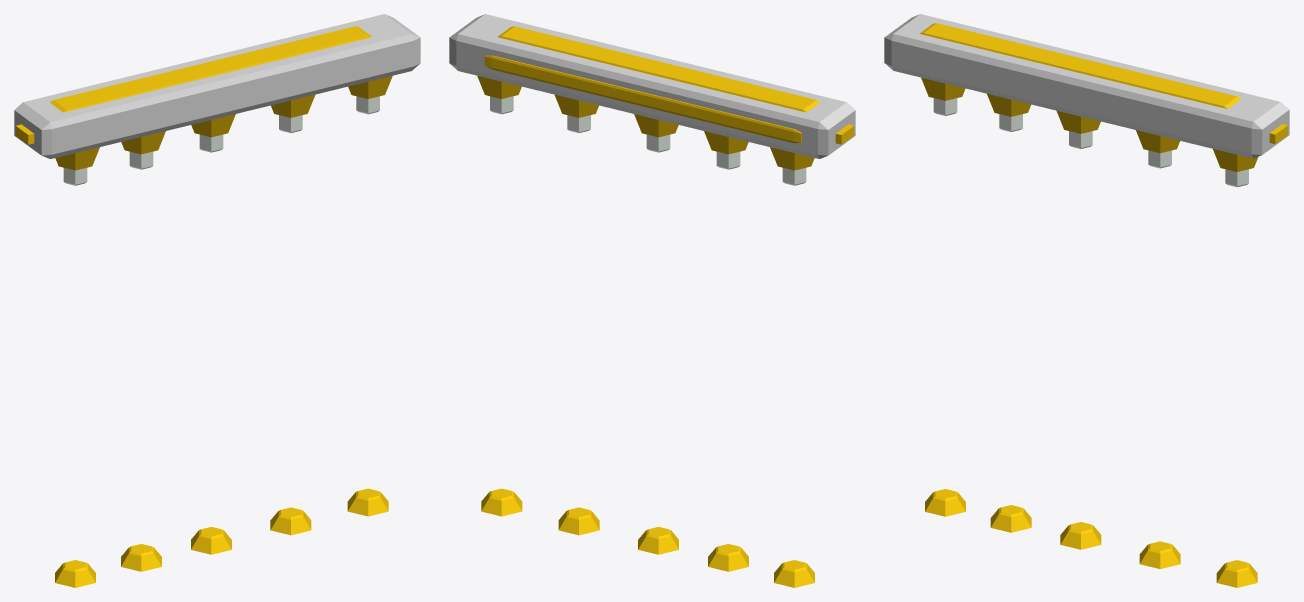
File: suport_laser.fbx
3 renders of one model, left to right at view 1: azimuth 30°, elevation 25°; view 2: azimuth 150°, elevation 25°; view 3: azimuth 330°, elevation 25°, orthographic.
Visible parts, largest first — view 1: polySurface3, polySurface8, polySurface13, polySurface10, polySurface5, polySurface6, polySurface4, polySurface7, polySurface9, polySurface12, polySurface11; view 2: polySurface3, polySurface8, polySurface13, polySurface10, polySurface5, polySurface6, polySurface4, polySurface7, polySurface9, polySurface12, polySurface11; view 3: polySurface3, polySurface10, polySurface5, polySurface6, polySurface8, polySurface13, polySurface4, polySurface9, polySurface12, polySurface7, polySurface11.
Boxes of the visible parts, x1,y1,x2,y2 form: polySurface3: (14,14,420,158); polySurface8: (191,114,235,152); polySurface13: (121,131,165,169); polySurface10: (55,147,99,185); polySurface5: (348,76,392,114); polySurface6: (271,94,315,132); polySurface4: (347,488,388,516); polySurface7: (270,507,311,535); polySurface9: (191,527,231,554); polySurface12: (121,544,161,571); polySurface11: (55,560,95,587); polySurface3: (449,14,855,158); polySurface8: (634,114,678,152); polySurface13: (704,131,748,169); polySurface10: (770,147,814,185); polySurface5: (477,76,521,114); polySurface6: (554,94,598,132); polySurface4: (481,488,522,516); polySurface7: (558,507,599,535); polySurface9: (638,527,678,554); polySurface12: (708,544,748,571); polySurface11: (774,560,814,587); polySurface3: (884,14,1289,158); polySurface10: (921,77,965,115); polySurface5: (1213,149,1258,187); polySurface6: (1136,130,1179,168); polySurface8: (1056,110,1100,148); polySurface13: (987,93,1031,131); polySurface4: (1216,560,1257,587); polySurface9: (1060,522,1101,549); polySurface12: (990,505,1031,532); polySurface7: (1139,541,1180,568); polySurface11: (925,489,965,516).
Bounding box in the file's own units: 177 × 207 × 24.8.
